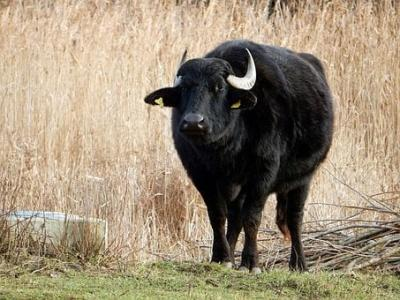buffalo: (145, 39, 333, 271)
